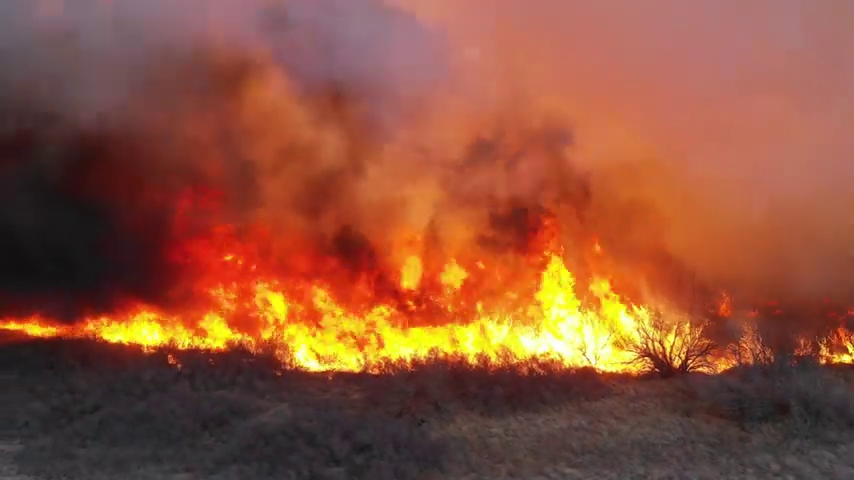forest_fire: (0, 241, 762, 370), (795, 325, 853, 363)
